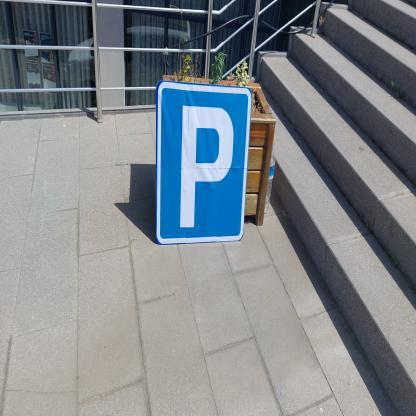parking: (159, 82, 250, 245)
